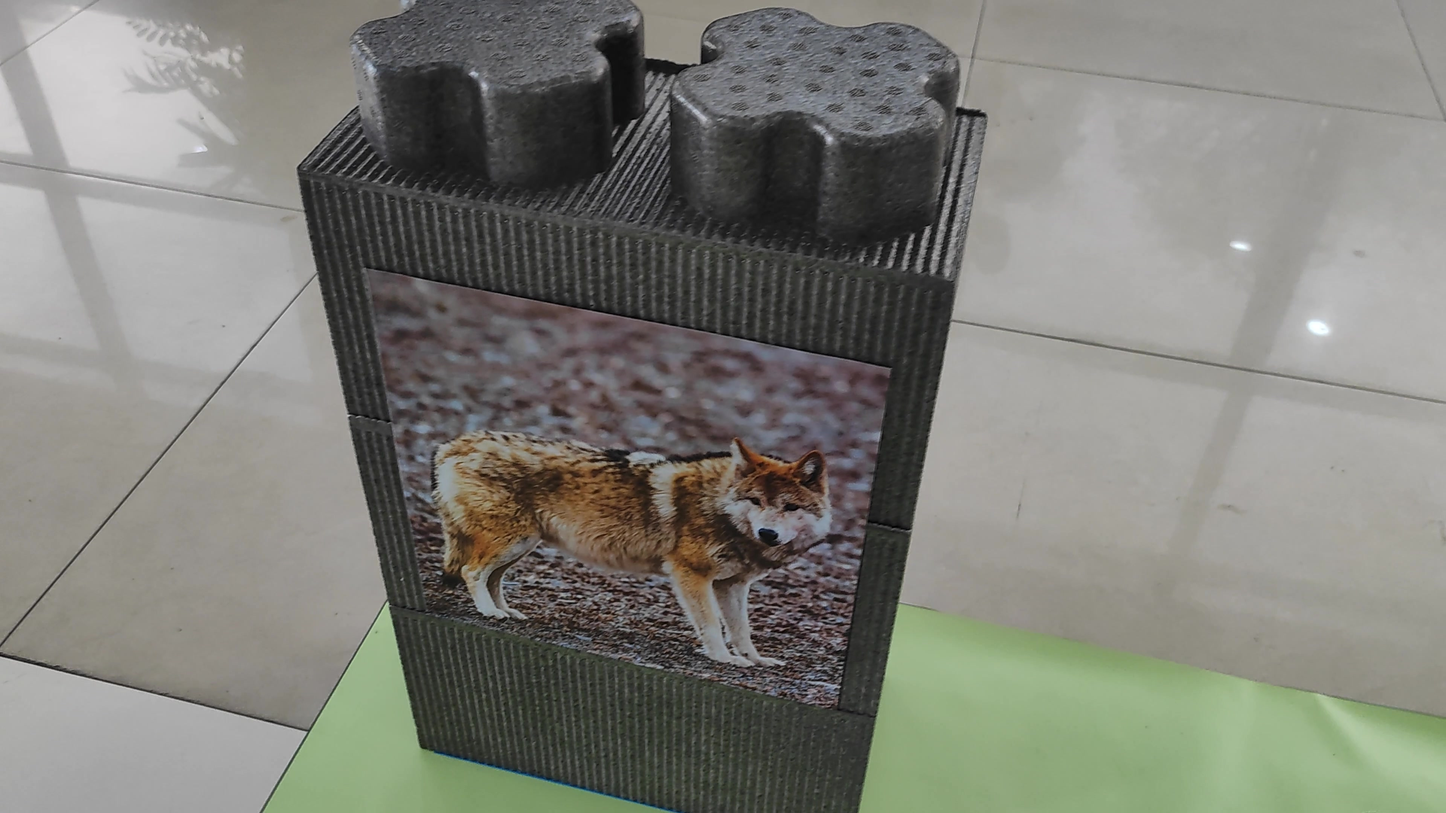wolf: (392, 354, 865, 674)
